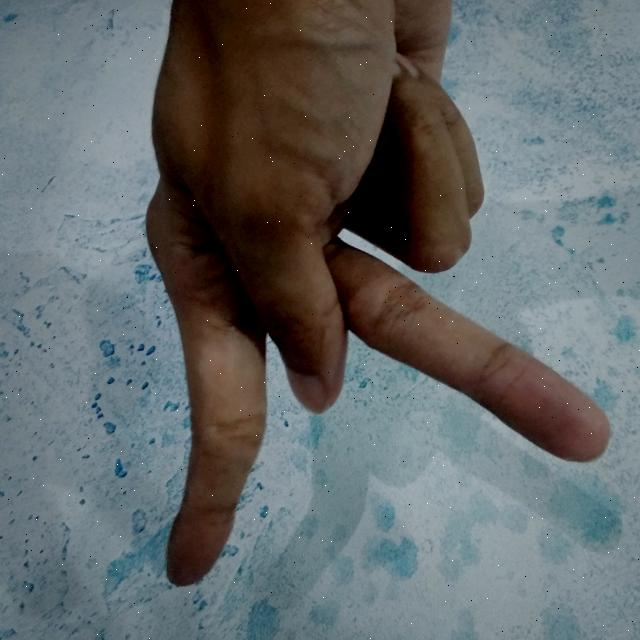P: (134, 0, 616, 596)
